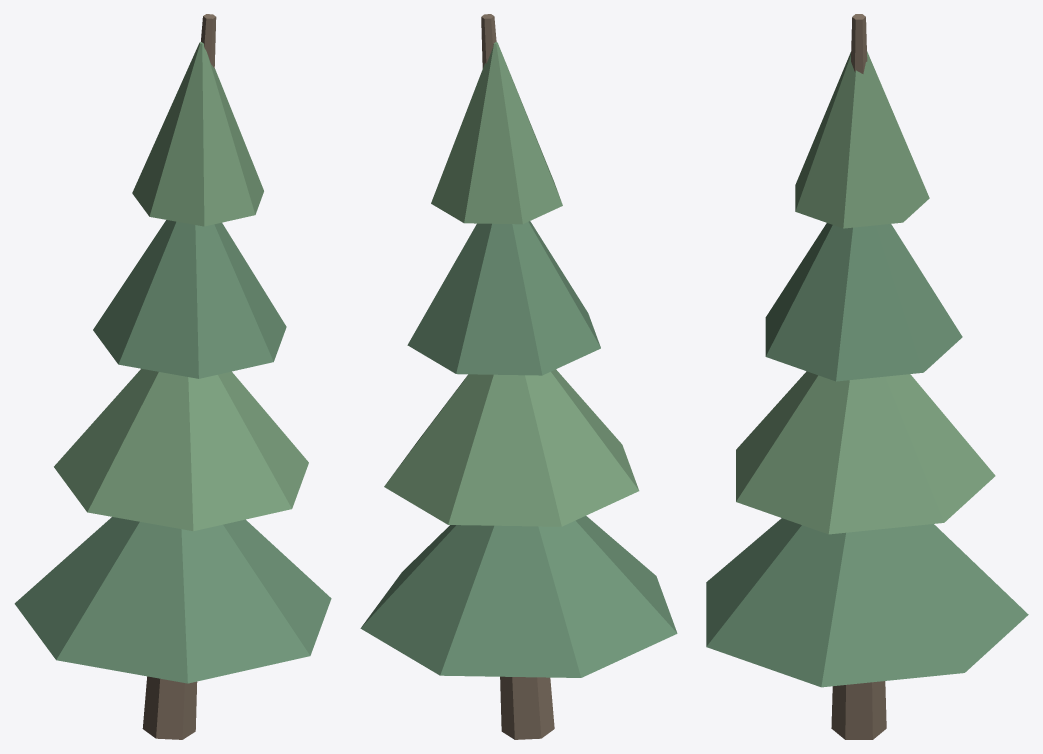
File: pine_v03.glb
The picture shows the model from 3 angles, left to right: view 1: azimuth 30°, elevation 25°; view 2: azimuth 150°, elevation 25°; view 3: azimuth 270°, elevation 25°; orthographic projection. The views are drawn at different scales.
Parts seen in each view (by area): view 1: lod0; view 2: lod0; view 3: lod0.
Part boxes in pixels (box(x1,y1,x2,y2)): lod0: box(14, 14, 331, 739); lod0: box(360, 14, 677, 739); lod0: box(706, 14, 1028, 739).
Size of what is drawn, in the model's own units: 2.39 by 5.86 by 2.34.
